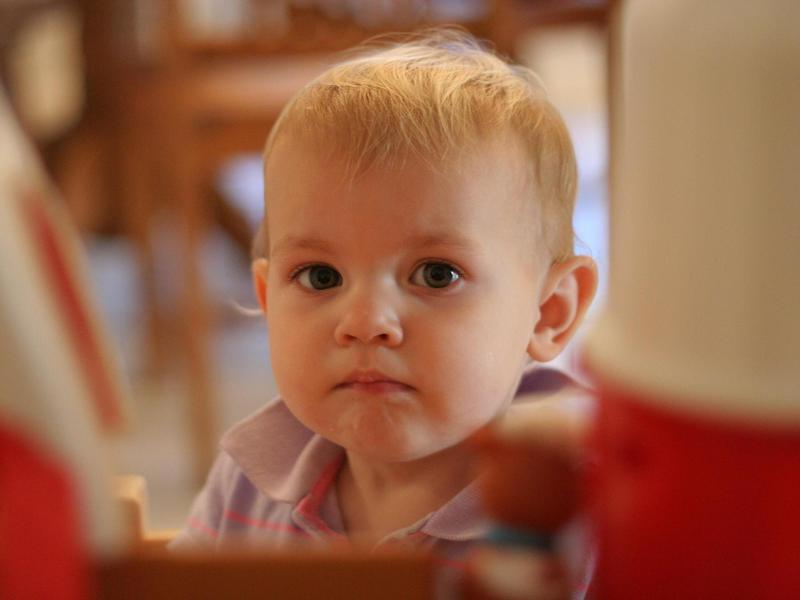person: (172, 24, 608, 539)
